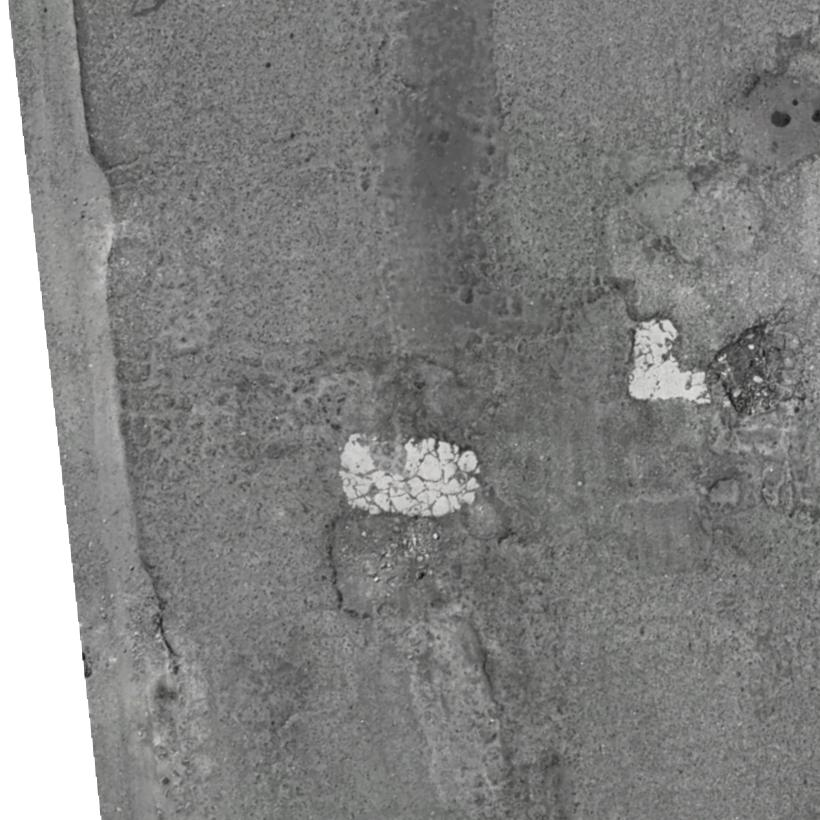BACHE: (331, 514, 456, 619), (711, 323, 782, 414)
GRIETA: (470, 614, 506, 713)
PARCHE: (380, 0, 497, 346), (731, 74, 819, 170)
PIEL DE COCODRILO: (445, 158, 819, 568), (119, 345, 480, 516), (212, 651, 316, 819)
